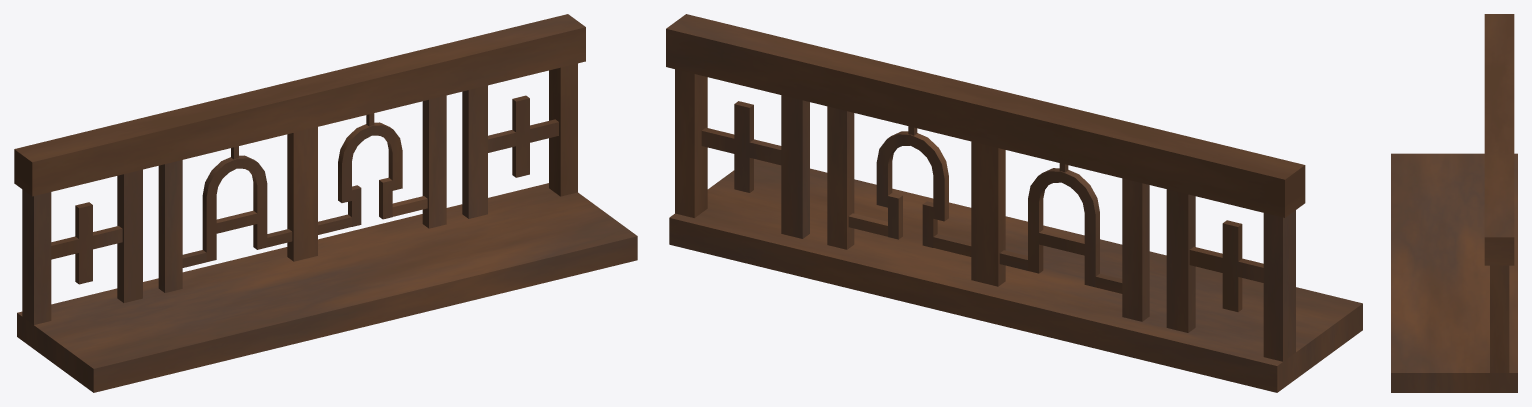
Rendered from reposarrodillas Vitrinas.fbx.
3 views of the same model, side by side, from view 1: azimuth 30°, elevation 25°; view 2: azimuth 150°, elevation 25°; view 3: azimuth 270°, elevation 25° (orthographic). The views are drawn at different scales.
Visible parts, largest first — view 1: Cube.035, Cube.031; view 2: Cube.035, Cube.031; view 3: Cube.035.
Part boxes in pixels (x1,y1,x2,y2): Cube.035: (14,14,637,392); Cube.031: (51,95,558,284); Cube.035: (666,14,1362,392); Cube.031: (701,101,1263,311); Cube.035: (1391,14,1517,392).
Size of the model in its own units: 188 by 61.77 by 45.09.
